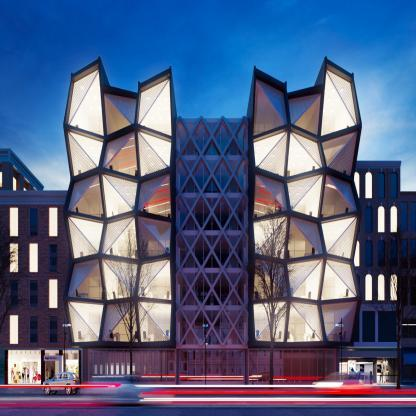Building Outline: (63, 56, 362, 389)
Decorative Shell: (176, 116, 234, 154)
Dont: (81, 371, 380, 407), (241, 195, 294, 385), (95, 223, 159, 375), (42, 371, 80, 395)
Facade: (70, 118, 354, 389)
Floor: (70, 304, 176, 344), (248, 304, 354, 344), (70, 181, 176, 218), (248, 181, 354, 218), (70, 140, 176, 176), (70, 263, 176, 299), (248, 140, 354, 176), (248, 264, 354, 300), (70, 223, 176, 258), (248, 223, 354, 258), (176, 118, 248, 160), (176, 311, 248, 345), (176, 160, 248, 193), (176, 235, 248, 268), (176, 198, 248, 230), (176, 273, 248, 305)
Floor Slab: (70, 345, 176, 350), (70, 299, 176, 304), (70, 259, 176, 264), (70, 218, 176, 223), (70, 176, 176, 181), (70, 135, 176, 140), (248, 345, 354, 350), (248, 259, 354, 264), (248, 218, 354, 223), (248, 176, 354, 181), (248, 135, 354, 140), (248, 300, 354, 304), (176, 306, 248, 311), (176, 268, 248, 273), (176, 230, 248, 235), (176, 193, 248, 198), (176, 155, 248, 160), (176, 345, 248, 350)
Glass Wall: (249, 349, 337, 389), (87, 349, 175, 389), (178, 349, 247, 389), (68, 69, 104, 136), (321, 69, 357, 136), (178, 311, 247, 345), (178, 122, 247, 155), (178, 160, 247, 193), (178, 235, 246, 268), (178, 273, 246, 305), (178, 198, 246, 230), (138, 77, 172, 136), (253, 79, 288, 136), (287, 130, 323, 177), (102, 172, 138, 218), (67, 130, 103, 176), (102, 131, 138, 177), (137, 129, 171, 177), (68, 173, 104, 218), (322, 131, 358, 176), (287, 173, 323, 218), (321, 173, 357, 218), (321, 216, 358, 259), (102, 215, 138, 259), (137, 172, 171, 218), (254, 130, 288, 176), (287, 216, 323, 259), (254, 173, 288, 218), (67, 301, 104, 342), (321, 301, 358, 342), (287, 258, 323, 300), (321, 258, 357, 300), (68, 216, 103, 259), (254, 215, 288, 259), (102, 301, 138, 342), (287, 301, 323, 342), (68, 259, 104, 300), (102, 258, 137, 300), (137, 215, 171, 258), (253, 301, 288, 342), (254, 258, 288, 300), (104, 93, 137, 135), (138, 258, 171, 300), (288, 93, 321, 135), (138, 301, 171, 342)
Ground Floor: (85, 349, 340, 389)
Top Floor: (70, 93, 176, 135), (248, 93, 354, 135)
